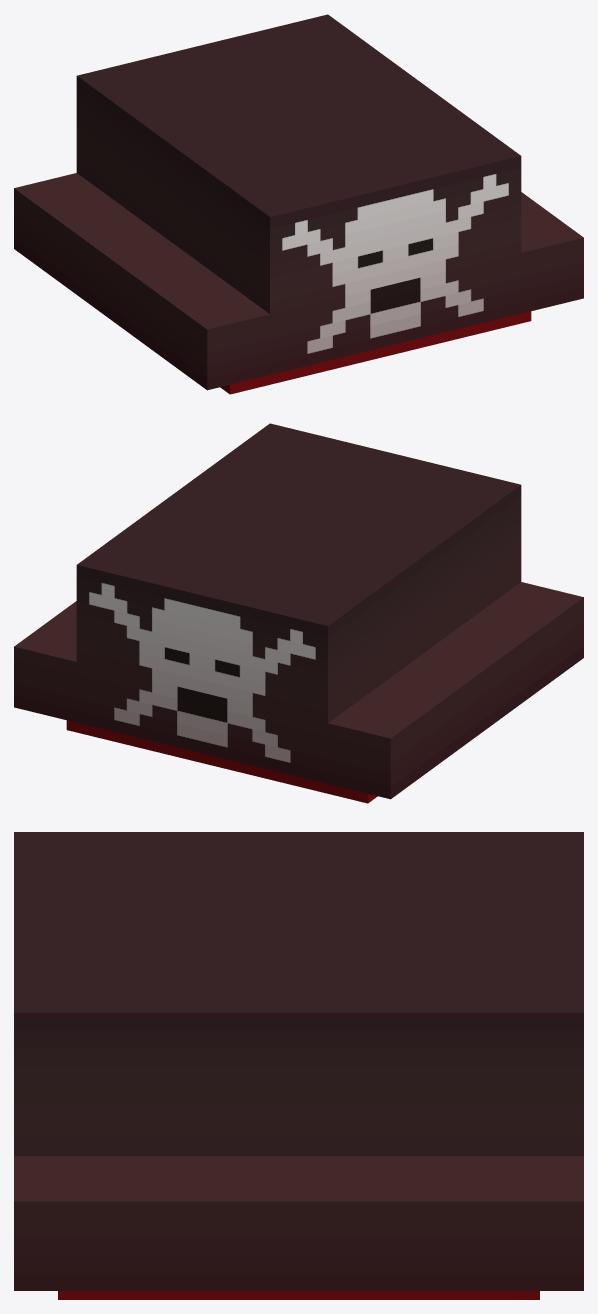
Rendered from Accessories001.fbx.
The picture shows the model from 3 angles, top to bottom: view 1: azimuth 30°, elevation 25°; view 2: azimuth 150°, elevation 25°; view 3: azimuth 270°, elevation 25°; orthographic projection. The views are drawn at different scales.
Visible parts, largest first — view 1: Accessories001; view 2: Accessories001; view 3: Accessories001.
Boxes of the visible parts, <box> form: Accessories001: <box>14,14,583,394</box>; Accessories001: <box>14,423,583,803</box>; Accessories001: <box>14,832,583,1299</box>.
Bounding box in the file's own units: 32.46 × 15 × 28.83.
